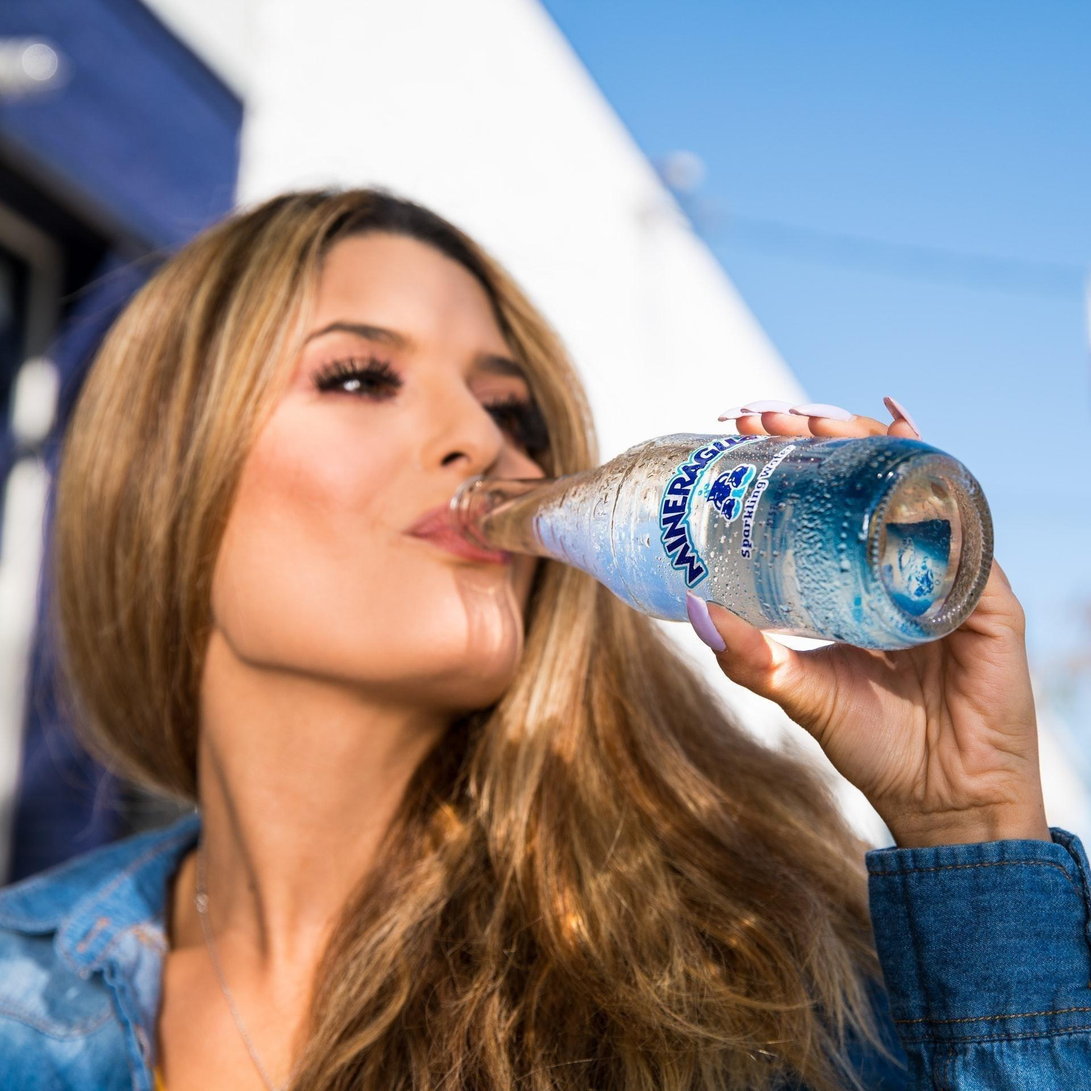bottle-glass: (441, 423, 1006, 652)
